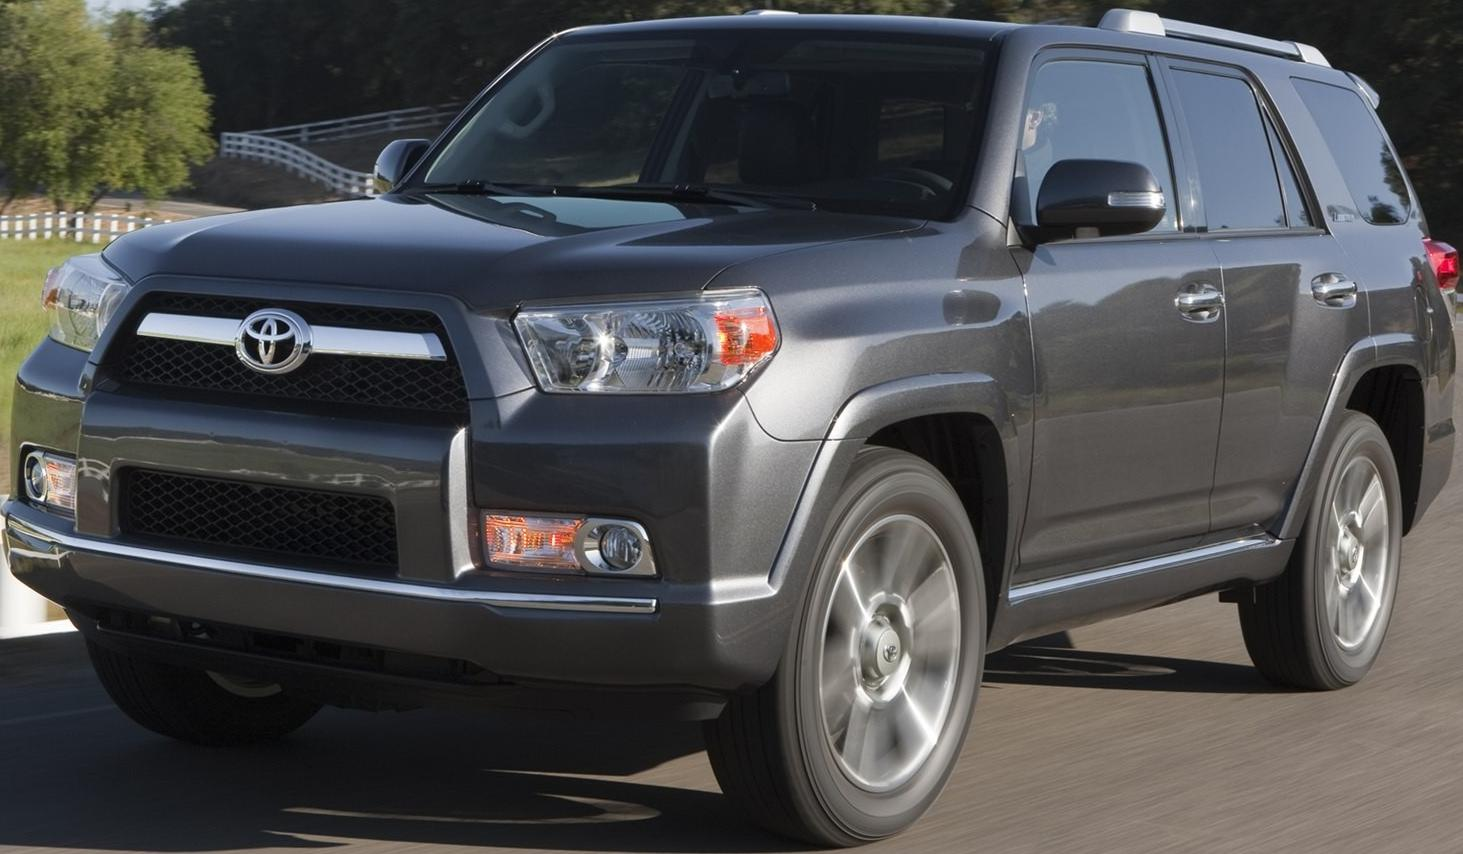front_view: (6, 251, 825, 692)
headlight: (479, 271, 788, 412)
side_glass: (1025, 60, 1323, 229)
